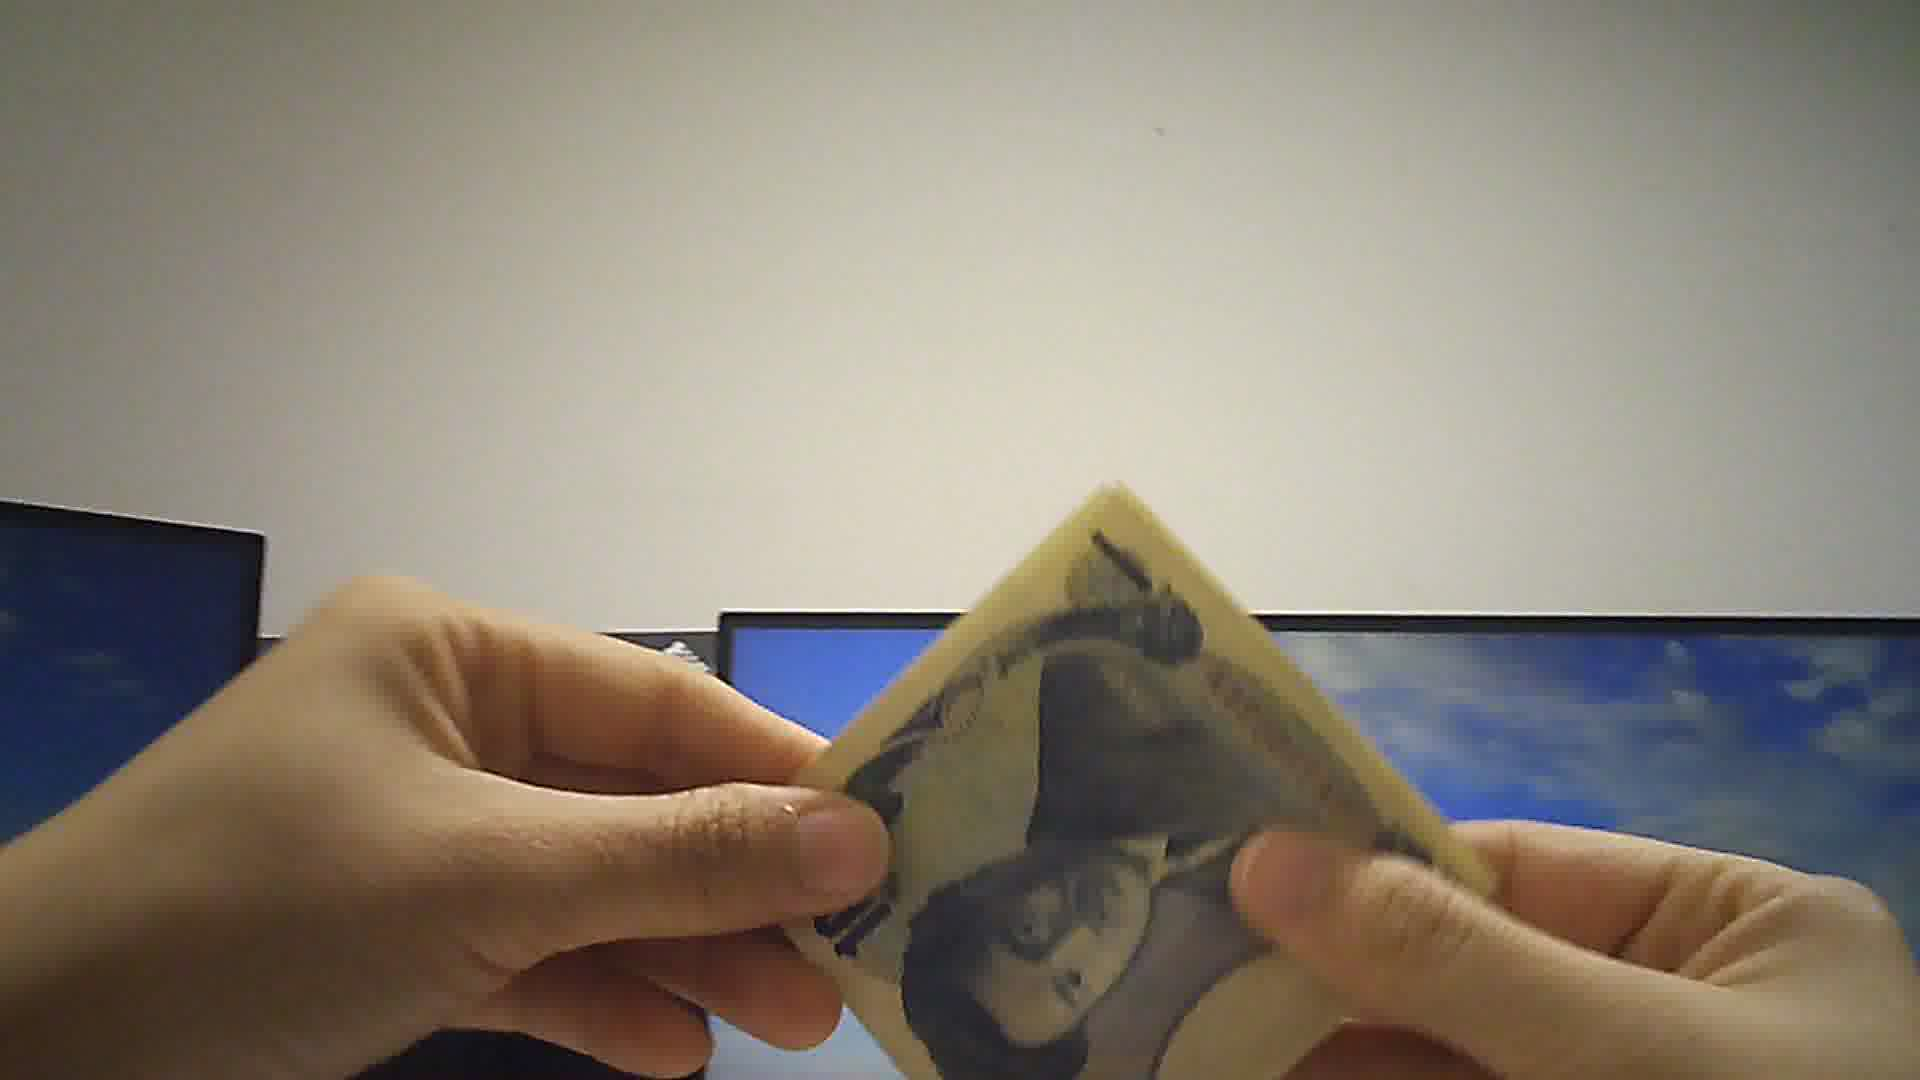1,000 Yen: (737, 491, 1465, 1079)
